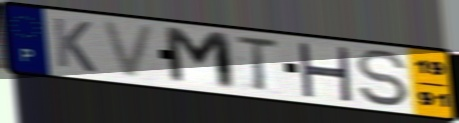H: (295, 40, 354, 104)
K: (50, 15, 99, 75)
M: (161, 24, 241, 93)
S: (353, 47, 412, 109)
T: (231, 35, 282, 94)
V: (98, 18, 159, 81)
